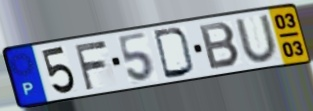5: (115, 30, 158, 84), (39, 44, 76, 95)
B: (197, 21, 243, 72)
D: (151, 27, 197, 81)
F: (72, 38, 109, 92)
U: (233, 13, 282, 64)
